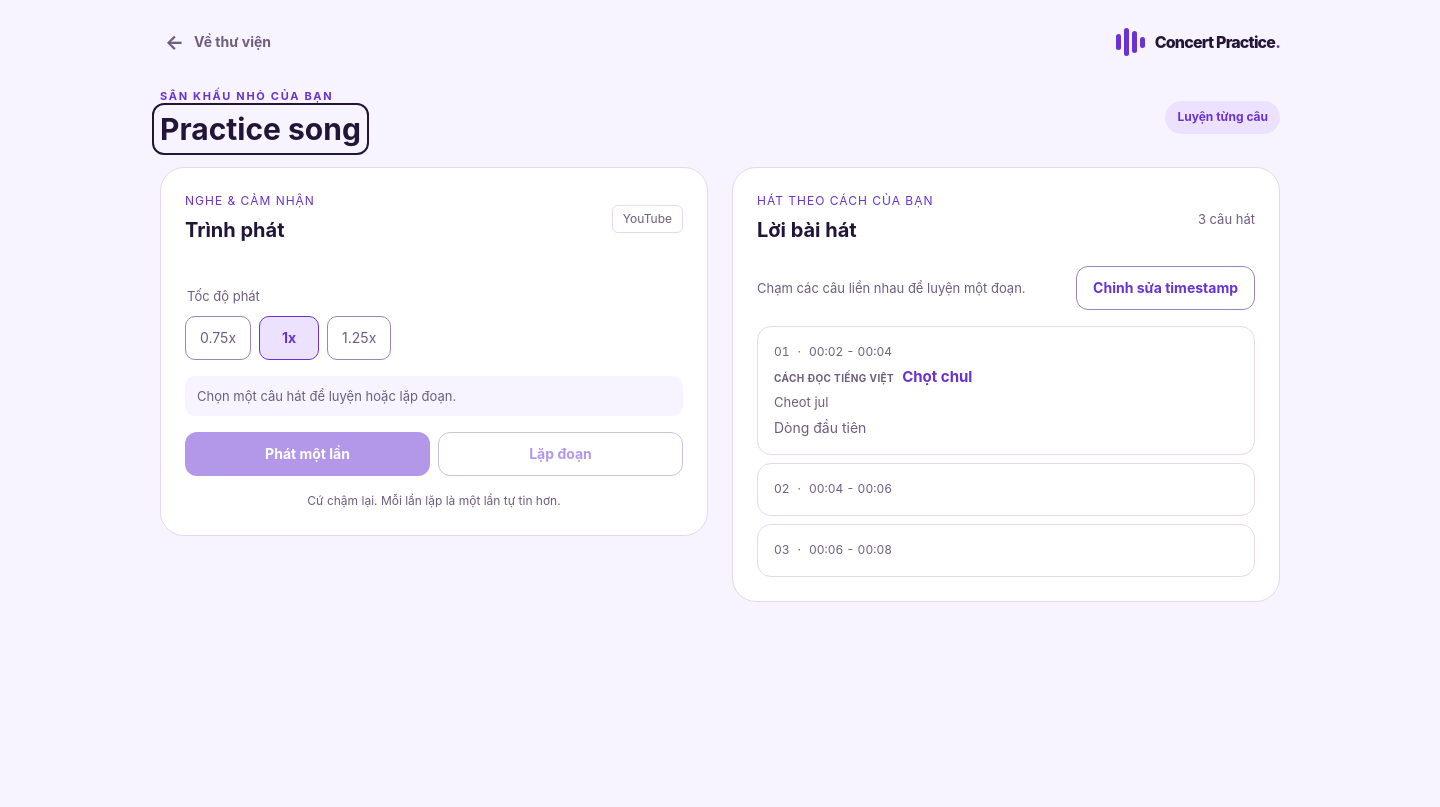
PracticePanel › identifies the lyric lines that share a start timestamp while allowing their ranges to overlap
The image size is (1440, 807).
Click the button "Chỉnh sửa timestamp".
click(1166, 288)  # box [1076,266,1255,310]
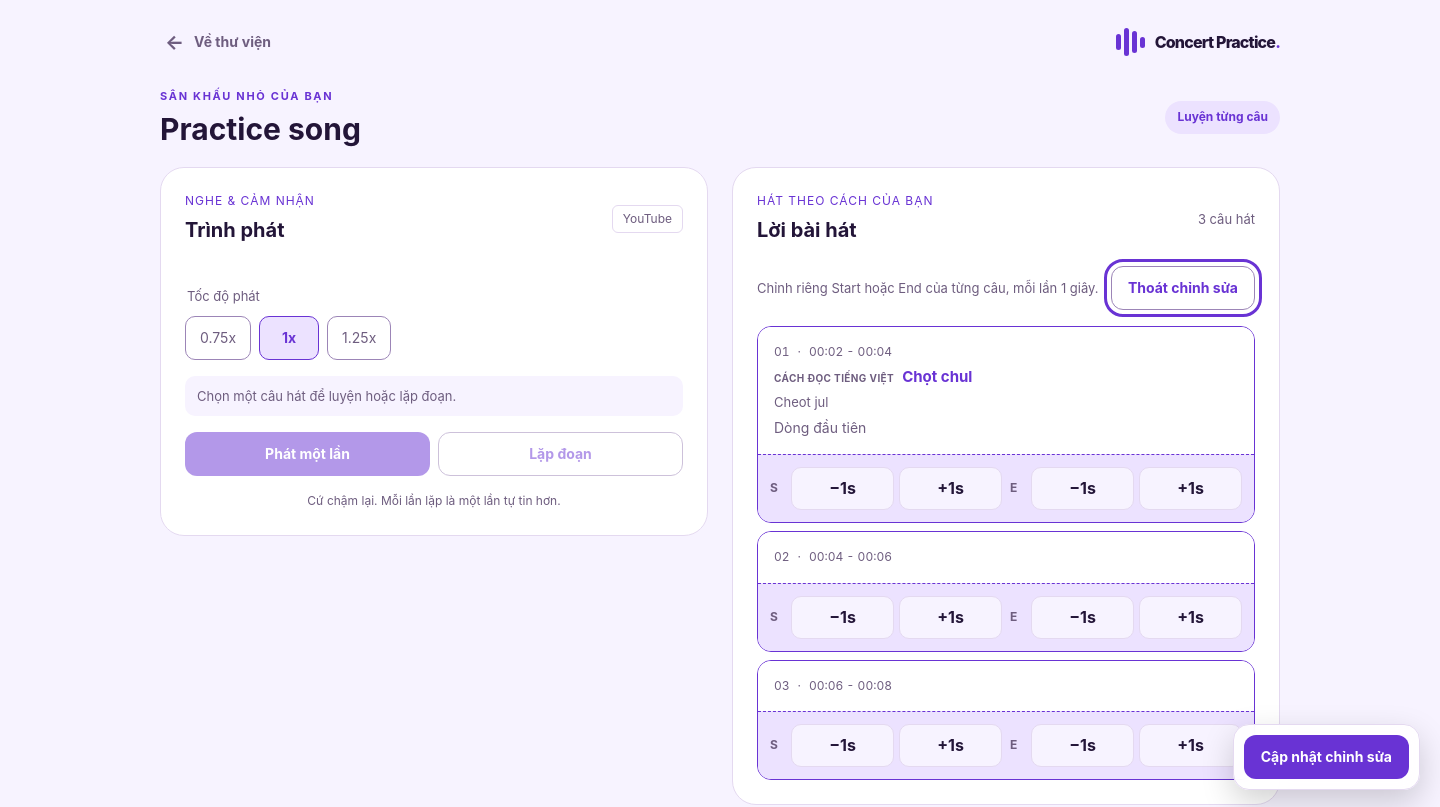
Expected: the 2nd text "S" is shown, [770,609,778,624]
Expected: the 2nd text "E" is shown, [1010,609,1017,624]
Expected: the button named "Giảm start câu 02 bớt 1 giây" is shown
Click the button named "Giảm start câu 02 bớt 1 giây".
click(842, 617)  # box [791,596,894,638]
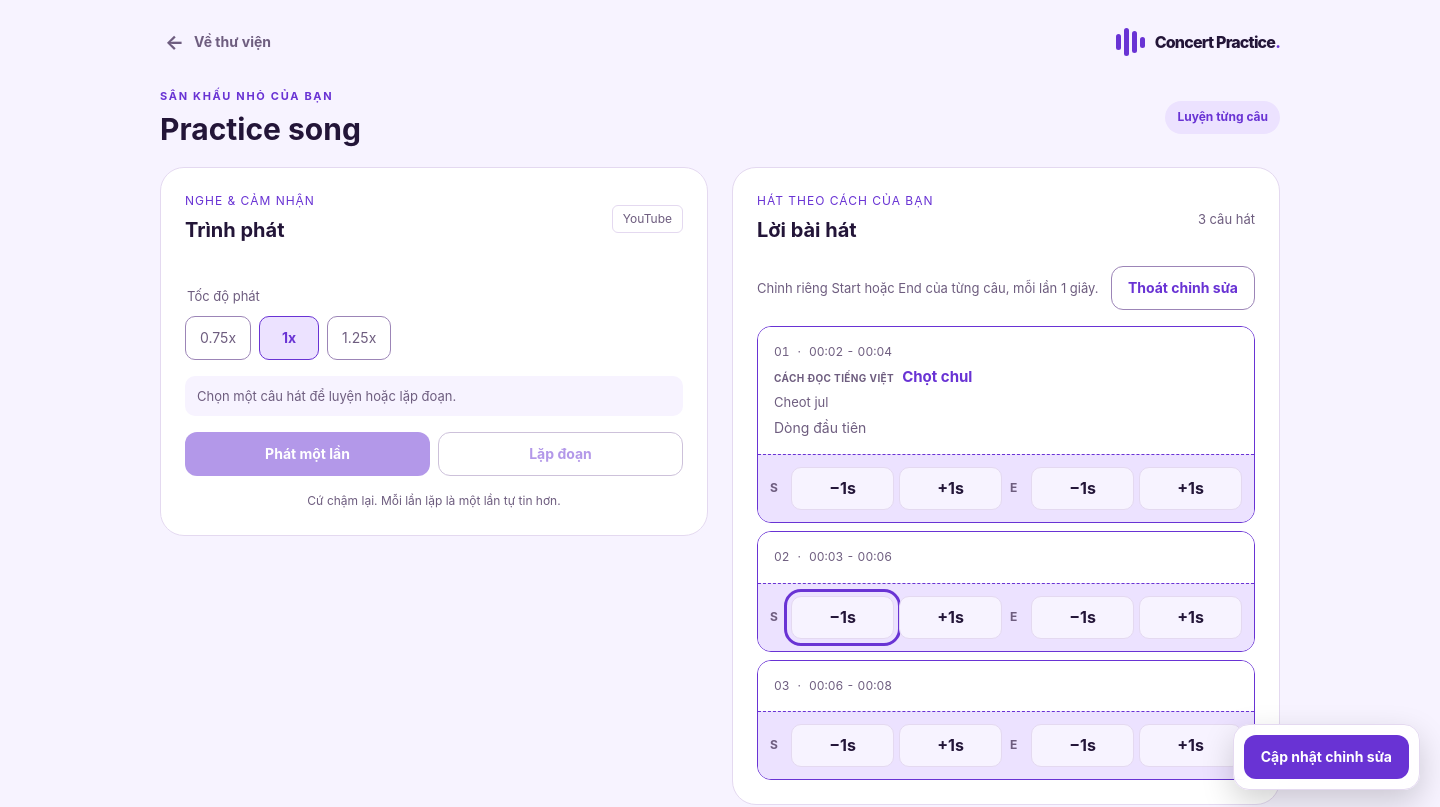
Click the button named "Giảm start câu 02 bớt 1 giây".
click(842, 617)  # box [791,596,894,638]
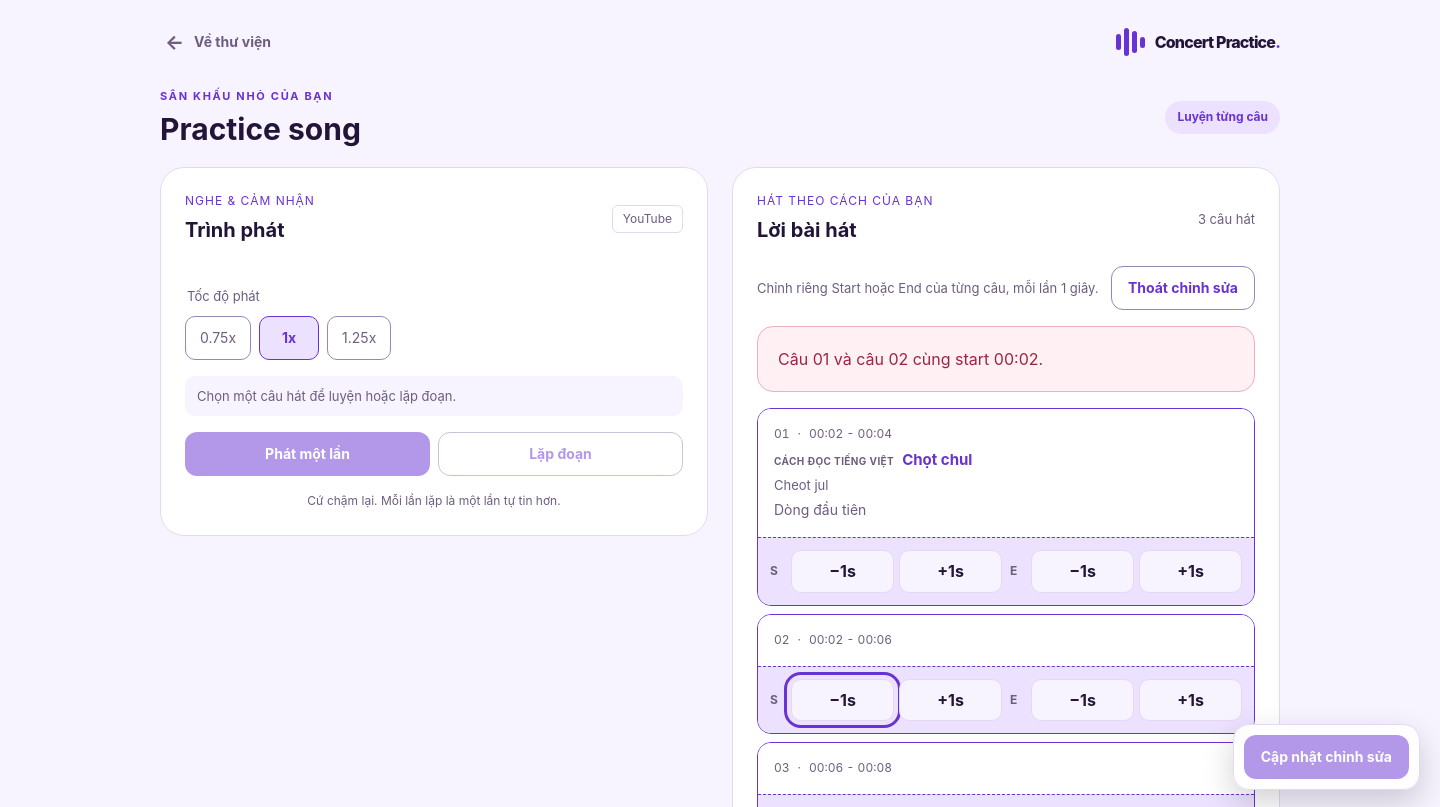
Expected: the message reads "Câu 01 và câu 02 cùng start 00:02.", [778,349,1043,369]
